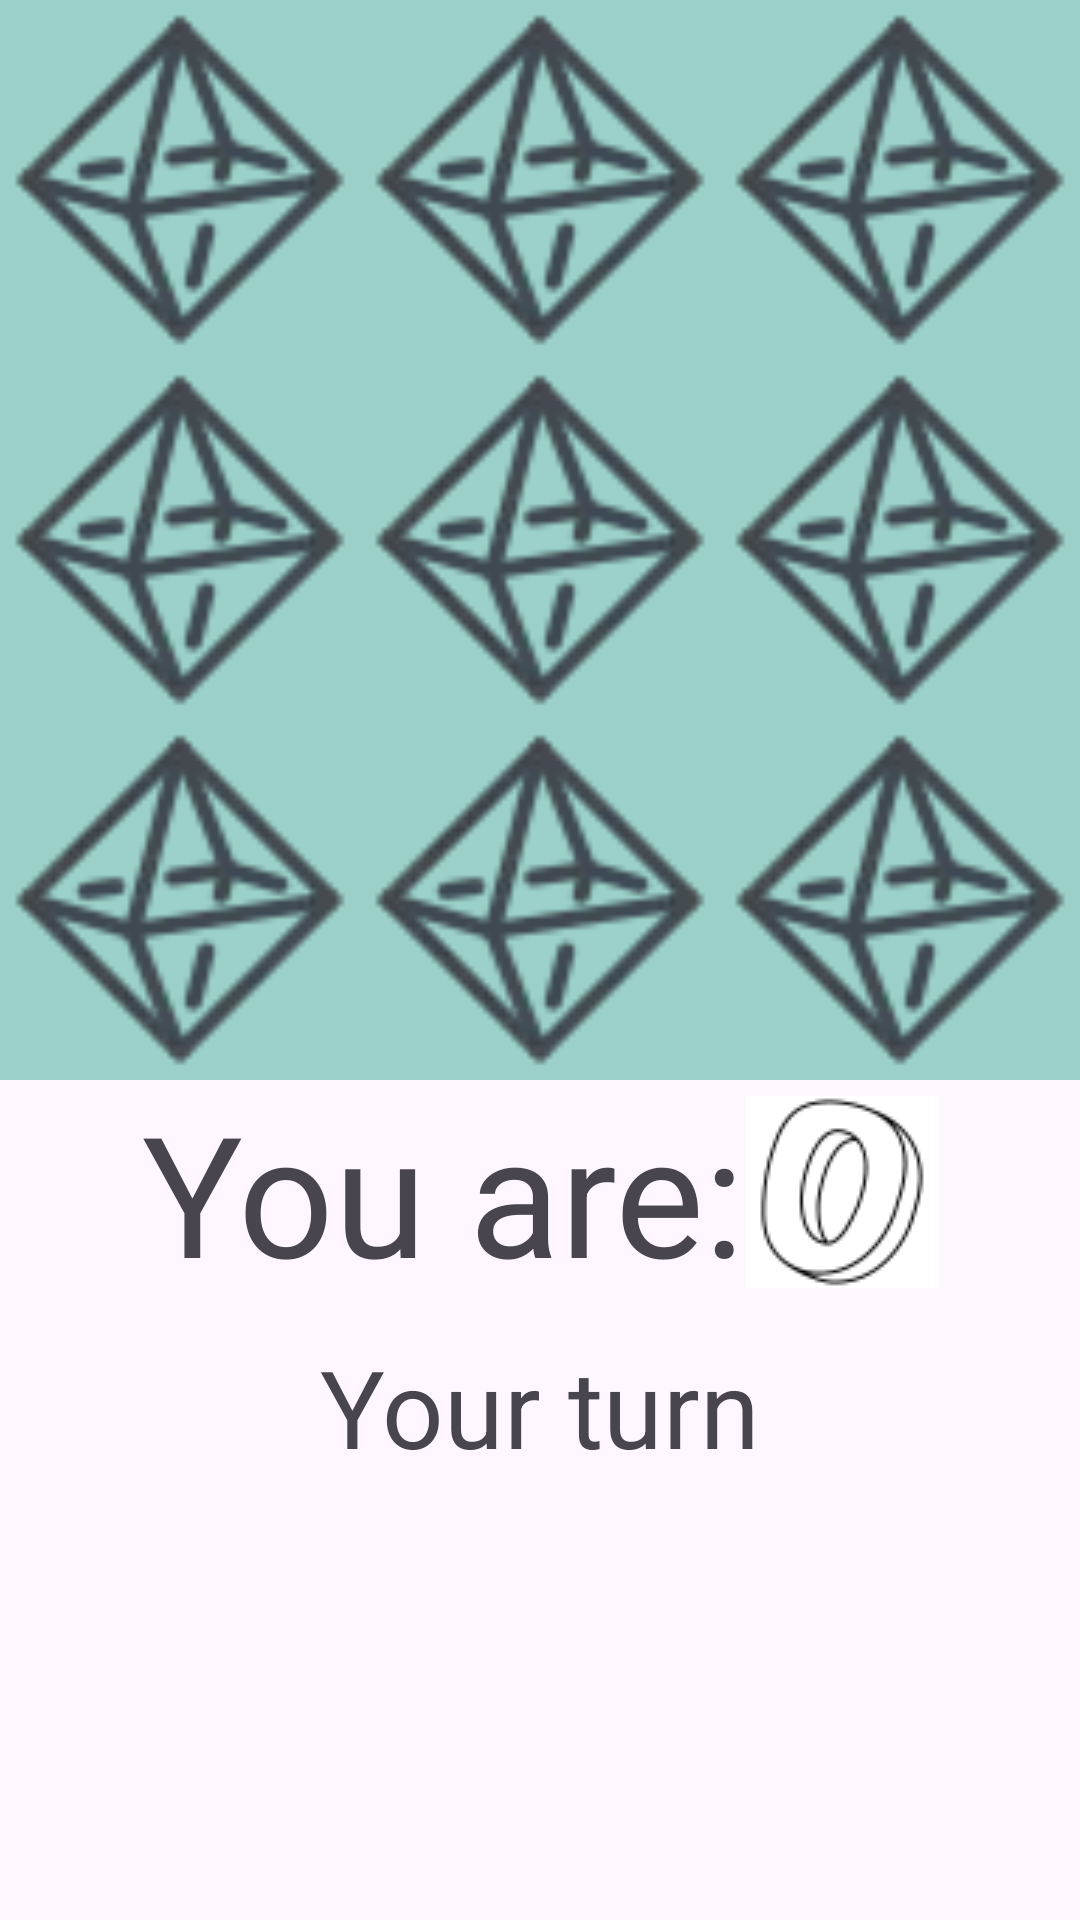

Named icons in this screenshot (1080 x 1920) and their centers, (x,y):
letter: (842,1192)
